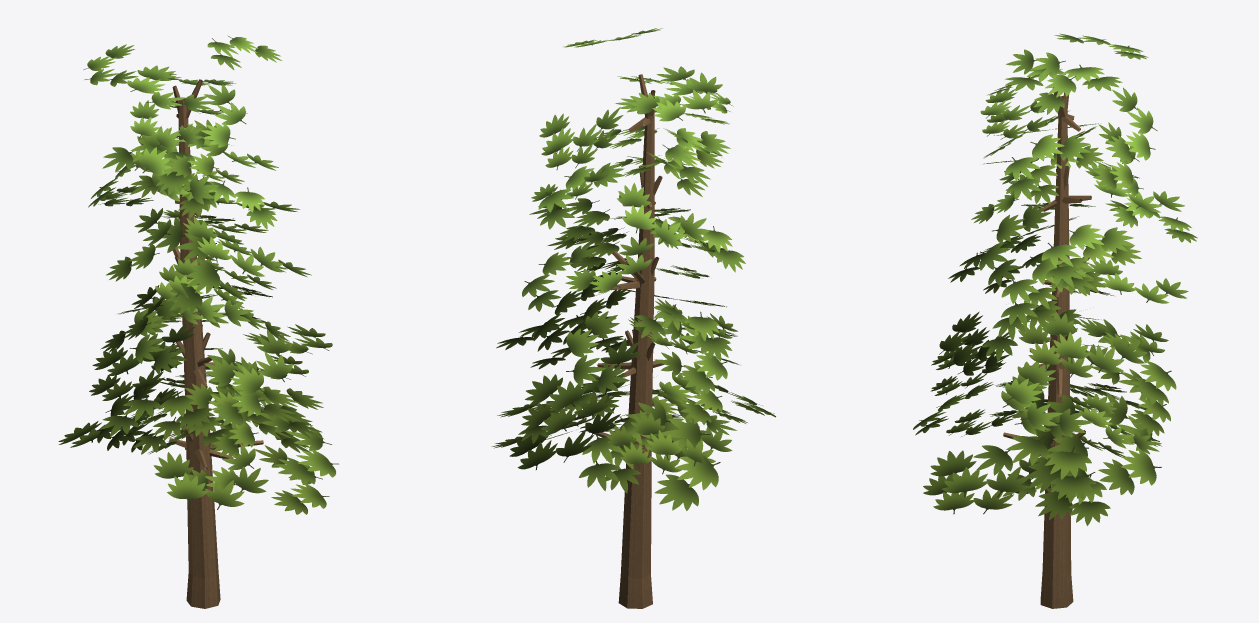
Rendered from maple2_tg.glb.
The picture shows the model from 3 angles, left to right: view 1: azimuth 30°, elevation 25°; view 2: azimuth 150°, elevation 25°; view 3: azimuth 270°, elevation 25°; orthographic projection. The views are drawn at different scales.
Visible parts, largest first — view 1: maple2_tg; view 2: maple2_tg; view 3: maple2_tg.
Boxes of the visible parts, x1,y1,x2,y2 form: maple2_tg: [58, 35, 338, 608]; maple2_tg: [491, 28, 775, 608]; maple2_tg: [913, 33, 1197, 608].
Bounding box in the file's own units: 3.88 × 5.82 × 3.6.
2 materials, 2 textured.
